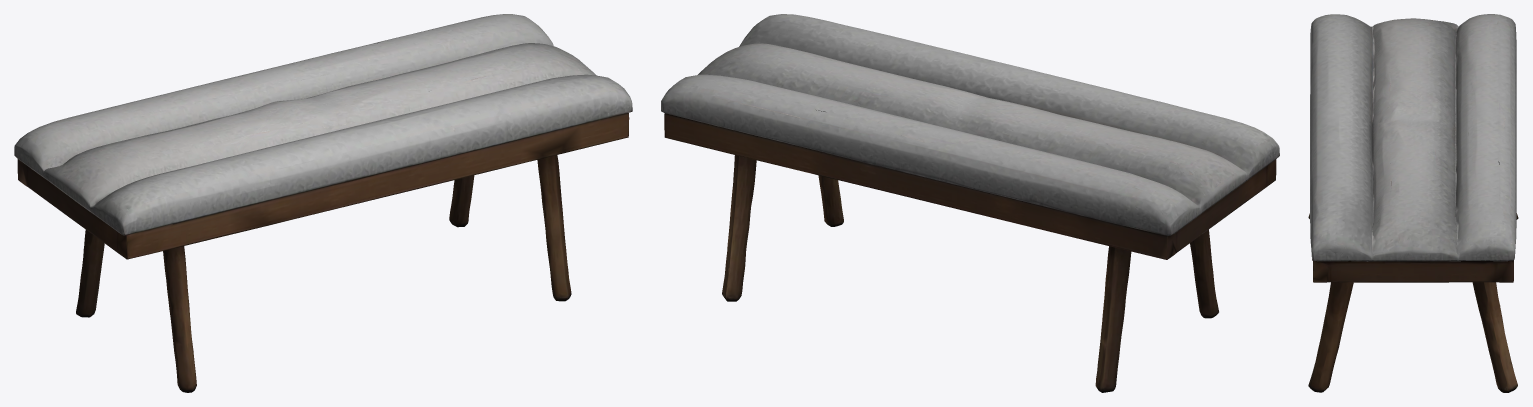
3 renders of one model, left to right at view 1: azimuth 30°, elevation 25°; view 2: azimuth 150°, elevation 25°; view 3: azimuth 270°, elevation 25°, orthographic. The views are drawn at different scales.
Visible parts, largest first — view 1: geometry_0; view 2: geometry_0; view 3: geometry_0.
Part boxes in pixels (x1,y1,x2,y2): geometry_0: [14, 14, 632, 392]; geometry_0: [661, 14, 1279, 392]; geometry_0: [1308, 14, 1518, 392].
Bounding box in the file's own units: 0.9999 × 0.3895 × 0.3866.
1 material, 1 textured.
